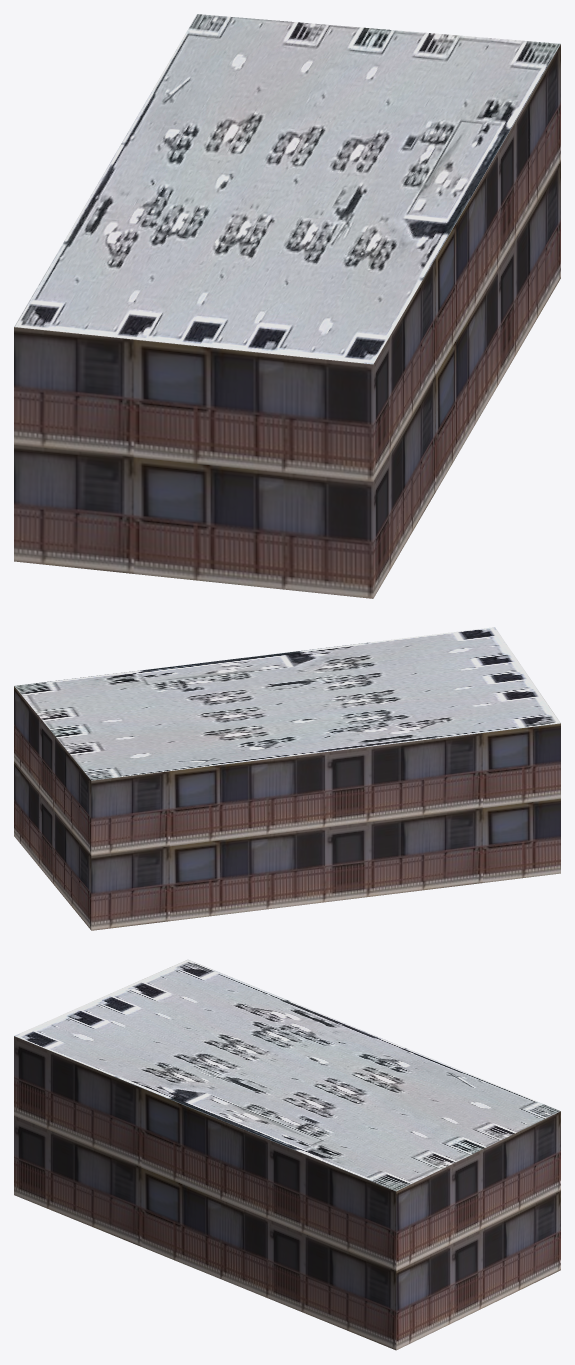
The model's file is ResTex__1793.fbx.
3 views of the same model, one above another, from view 1: azimuth 30°, elevation 25°; view 2: azimuth 150°, elevation 25°; view 3: azimuth 270°, elevation 25° (orthographic). The views are drawn at different scales.
Visible parts, largest first — view 1: CityEngineMaterial_6_m, CityEngineMaterial_2_m; view 2: CityEngineMaterial_6_m, CityEngineMaterial_2_m; view 3: CityEngineMaterial_6_m, CityEngineMaterial_2_m.
Boxes of the visible parts, x1=… form: CityEngineMaterial_6_m: x1=14, y1=44, x2=560, y2=598; CityEngineMaterial_2_m: x1=14, y1=14, x2=560, y2=364; CityEngineMaterial_6_m: x1=14, y1=686, x2=560, y2=930; CityEngineMaterial_2_m: x1=14, y1=627, x2=560, y2=780; CityEngineMaterial_6_m: x1=14, y1=1036, x2=560, y2=1350; CityEngineMaterial_2_m: x1=14, y1=959, x2=560, y2=1191.
Bounding box in the file's own units: 18.76 × 6 × 18.7.
2 materials, 2 textured.
